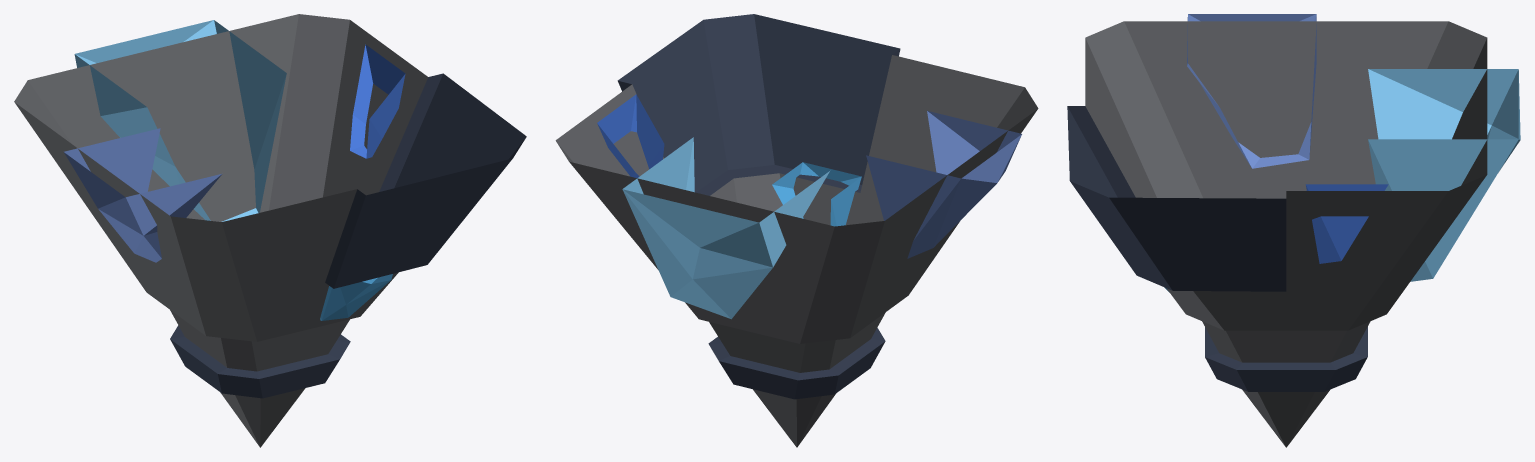
The model's file is sp_plant01.glb.
3 views of the same model, side by side, from view 1: azimuth 30°, elevation 25°; view 2: azimuth 150°, elevation 25°; view 3: azimuth 270°, elevation 25° (orthographic). The views are drawn at different scales.
Visible parts, largest first — view 1: SP_Plant01; view 2: SP_Plant01; view 3: SP_Plant01.
Boxes of the visible parts, left/top/right/bottom form: SP_Plant01: left=14, top=14, right=526, bottom=447; SP_Plant01: left=555, top=14, right=1038, bottom=447; SP_Plant01: left=1067, top=14, right=1520, bottom=447.
Bounding box in the file's own units: 115 × 98.8 × 119.
Materials: 1 (1 with a texture image).
